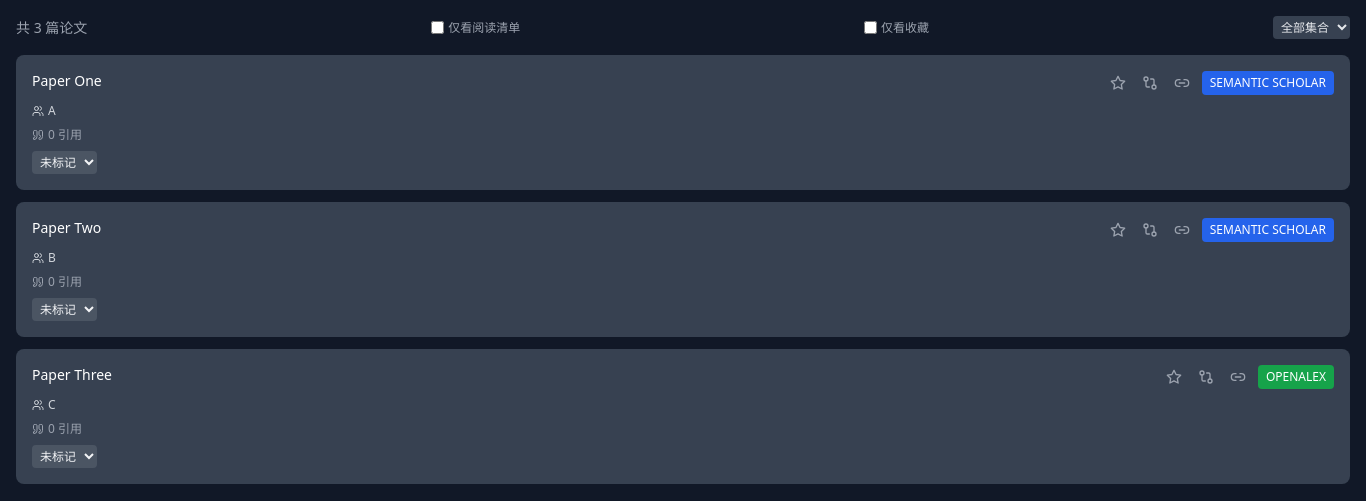
PaperList › shows a paper inside a collection that was filled from the details panel
Select "Reading" in the dropdown named "集合筛选" at x=1312, y=28, box [1273,16,1350,39]
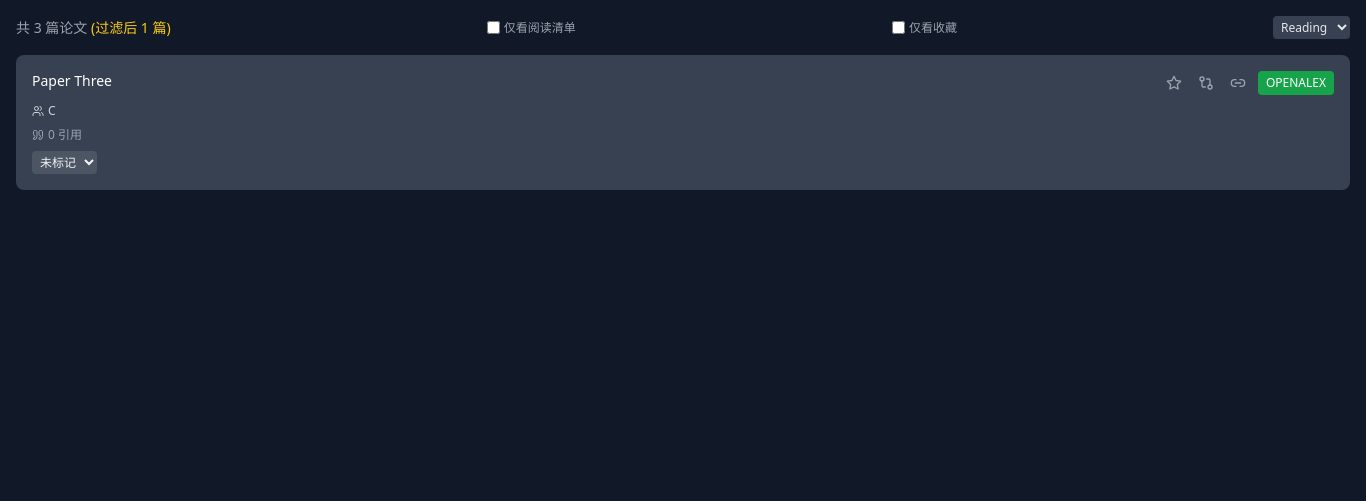
Check: the heading "Paper Three" is shown, box [32,71,112,90]
Check: the heading "Paper One" is gone
